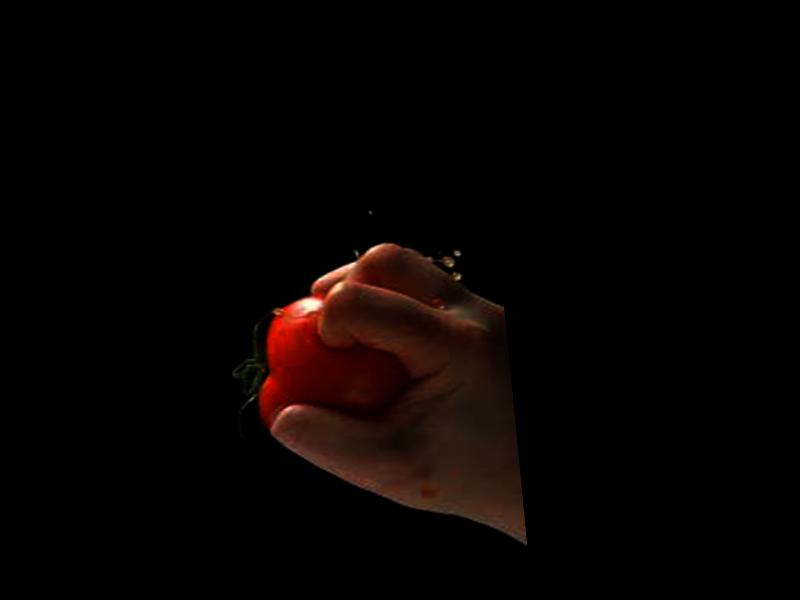Tomato: (247, 288, 412, 431)
